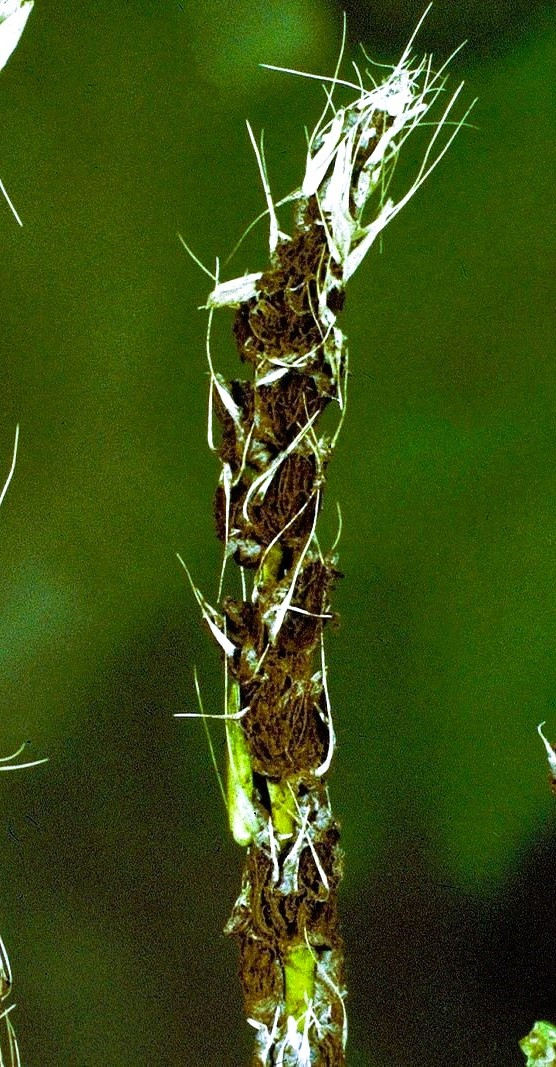Wheat Loose Smut: (172, 273, 392, 871)
